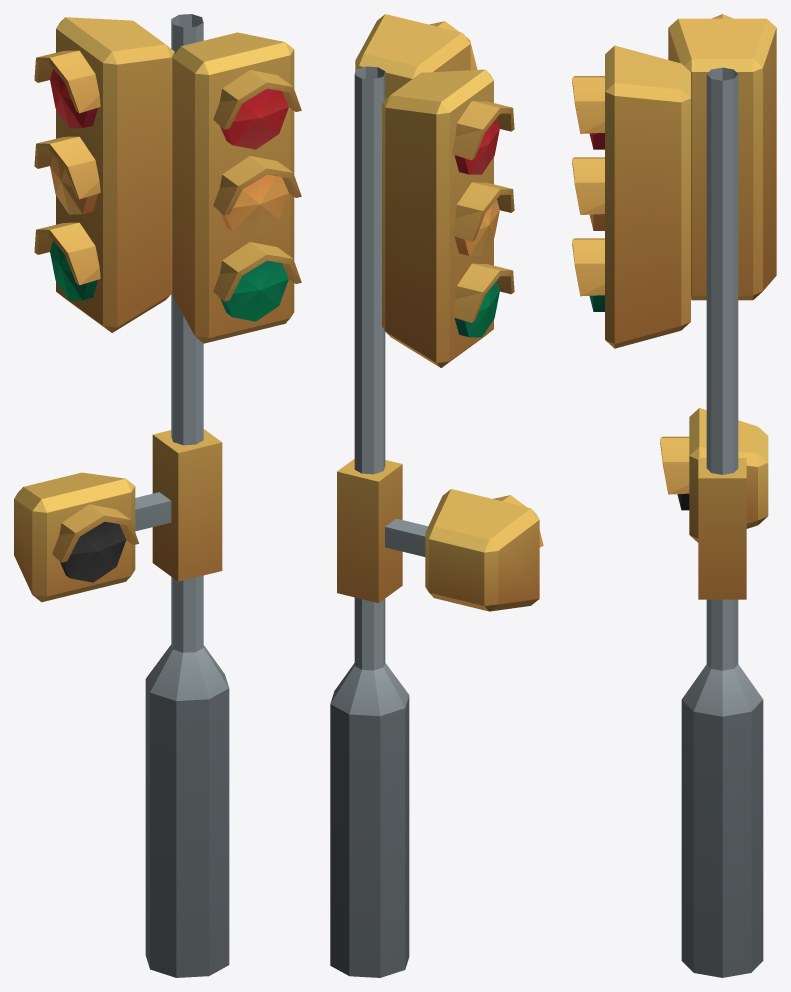
The model's file is trafficlight_A.obj.
3 renders of one model, left to right at view 1: azimuth 30°, elevation 25°; view 2: azimuth 150°, elevation 25°; view 3: azimuth 270°, elevation 25°, orthographic. The views are drawn at different scales.
Bounding box in the file's own units: 0.1744 × 0.7295 × 0.1506.
Materials: 1 (1 with a texture image).
